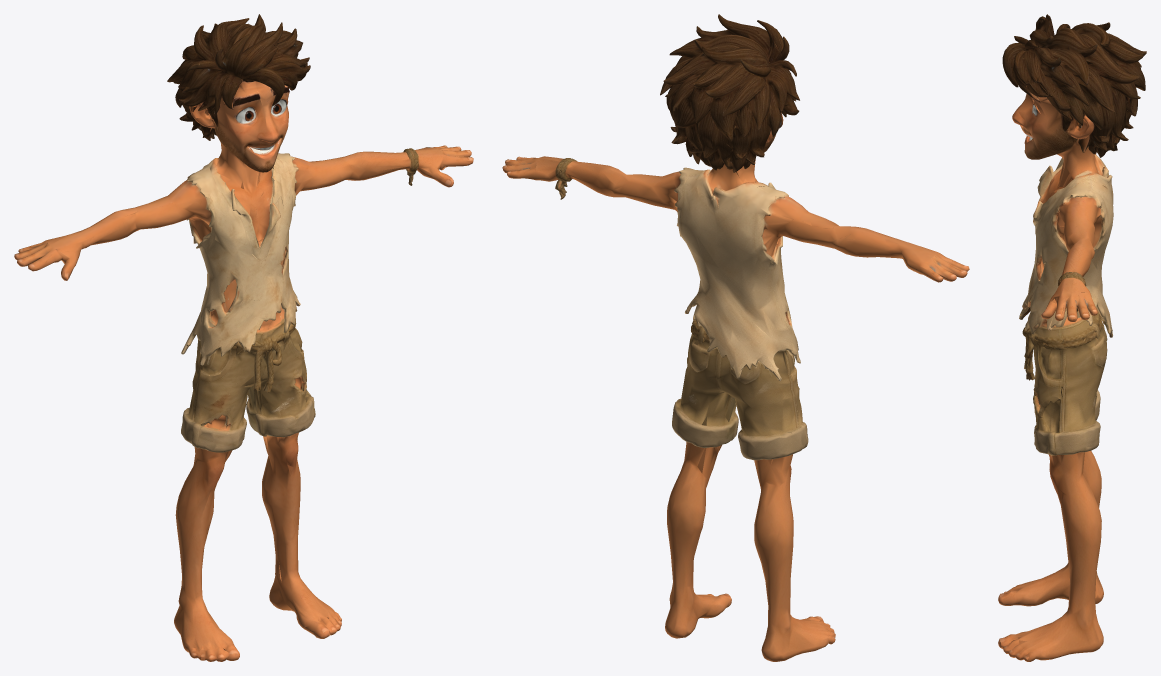
File: castaway-flyer-base.glb
3 renders of one model, left to right at view 1: azimuth 30°, elevation 25°; view 2: azimuth 150°, elevation 25°; view 3: azimuth 270°, elevation 25°, orthographic.
Parts seen in each view (by area): view 1: output_unwrapped; view 2: output_unwrapped; view 3: output_unwrapped.
Part boxes in pixels (box(x1,y1,x2,y2)): output_unwrapped: box(14, 14, 473, 661); output_unwrapped: box(502, 14, 969, 661); output_unwrapped: box(998, 14, 1146, 661).
Bounding box in the file's own units: 1.39 × 1.77 × 0.395.
1 material, 1 textured.
